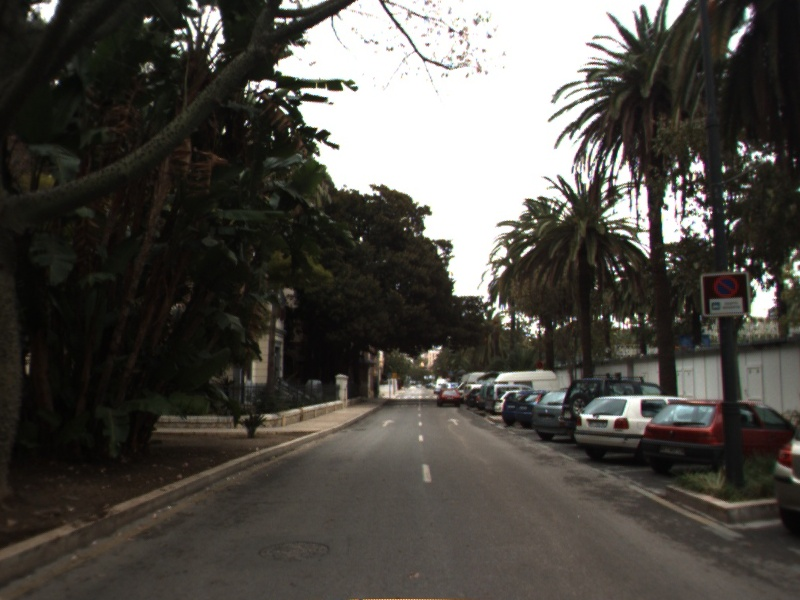STRAIGHT: (444, 415, 463, 428), (380, 417, 397, 429)
